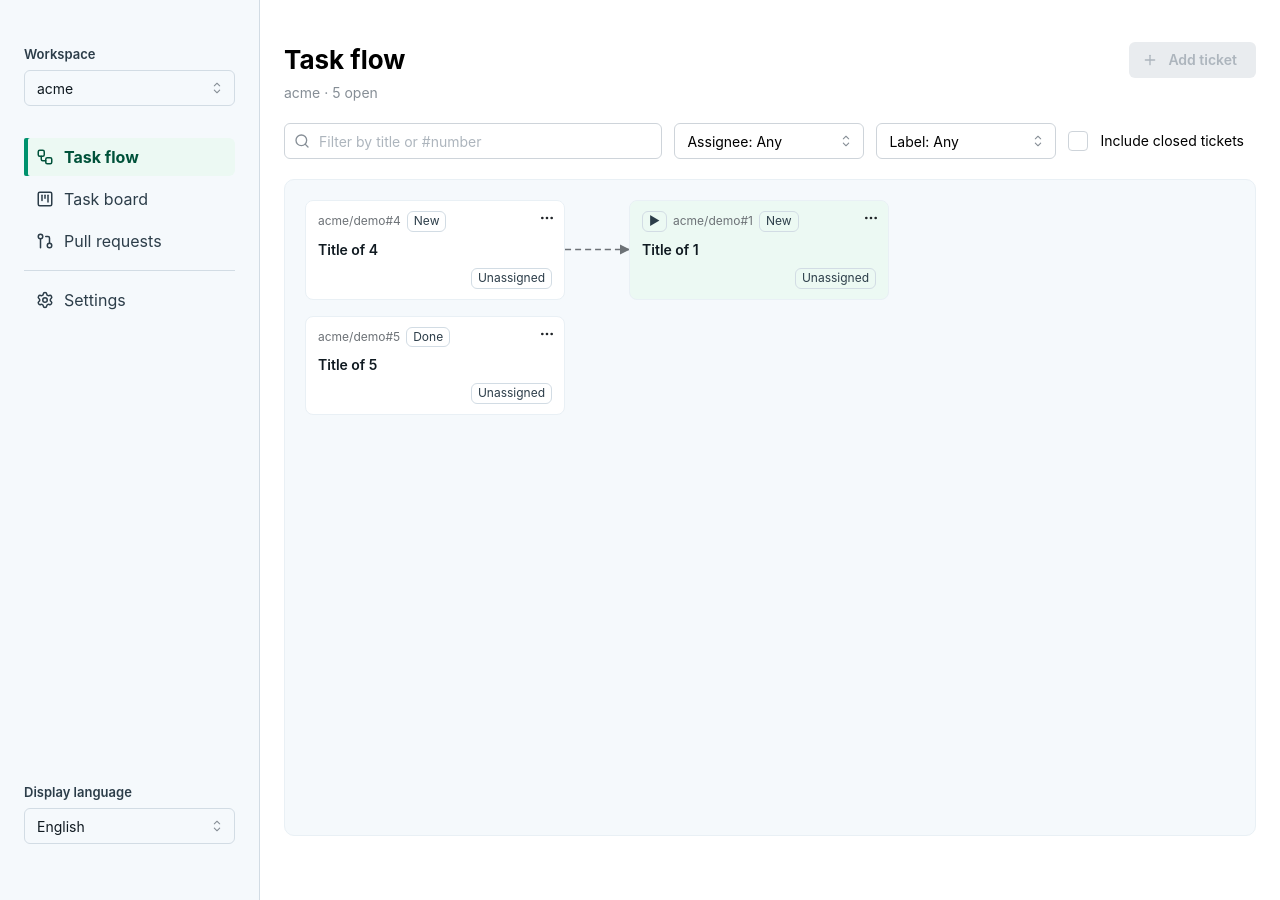
Test: relations › opens a parent into a frame with a toggle that says so, and remembers it
Check: the link "acme/demo#1" is shown, box top-left (673, 212), bottom-right (753, 231)
Hover over the button named "Open child tickets" at [654, 222], box top-left (642, 211), bottom-right (667, 232)
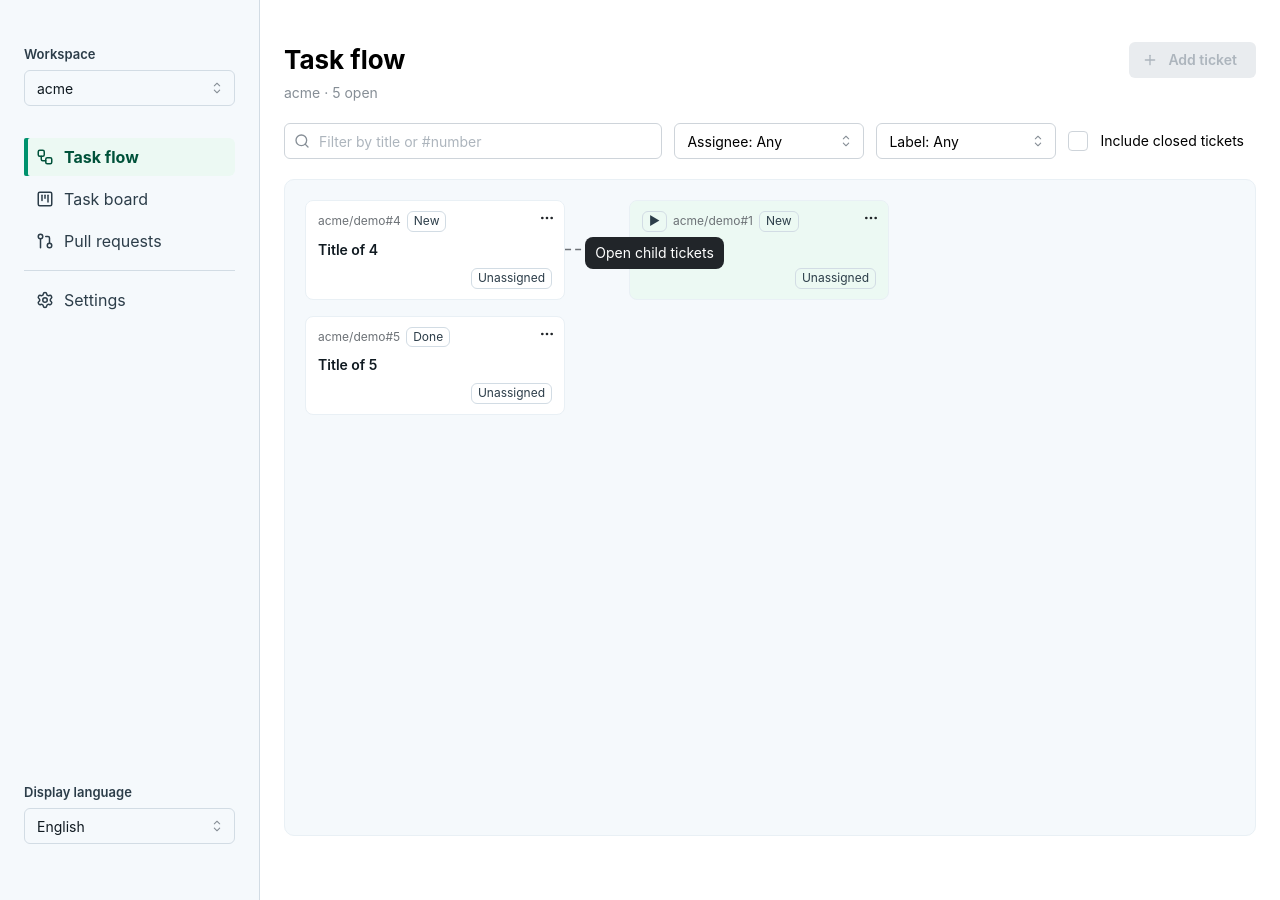
Check: the tooltip reads "Open child tickets", box top-left (595, 244), bottom-right (714, 261)
Click the button named "Open child tickets" at [654, 222], box top-left (642, 211), bottom-right (667, 232)
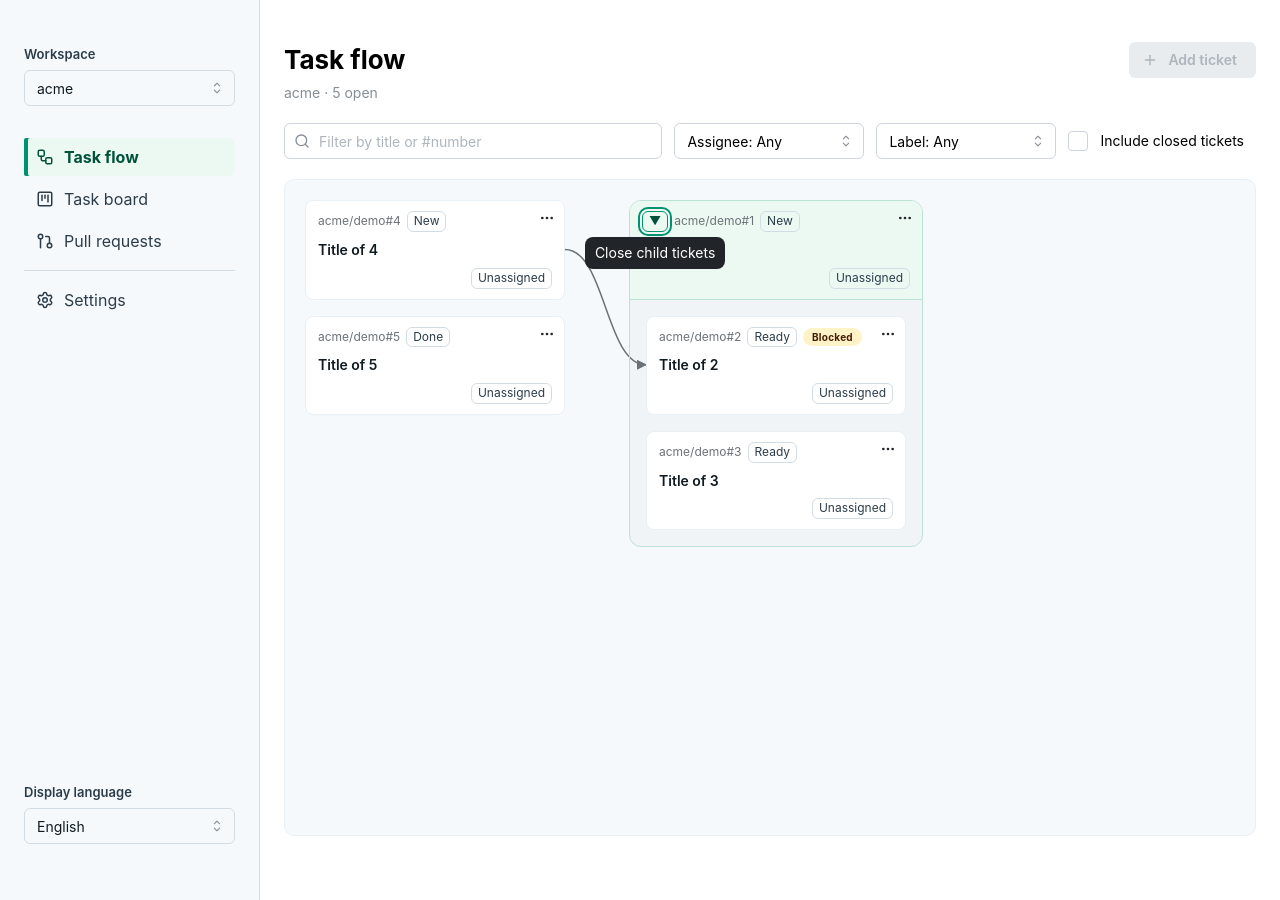
Check: the element "acme/demo#2 Ready Blocked Title of 2 Unassigned" is shown, box top-left (646, 316), bottom-right (906, 415)
Check: the button named "Open child tickets" is expanded, box top-left (642, 211), bottom-right (668, 232)
Check: the button named "Open child tickets" reads "▼", box top-left (642, 211), bottom-right (668, 232)
